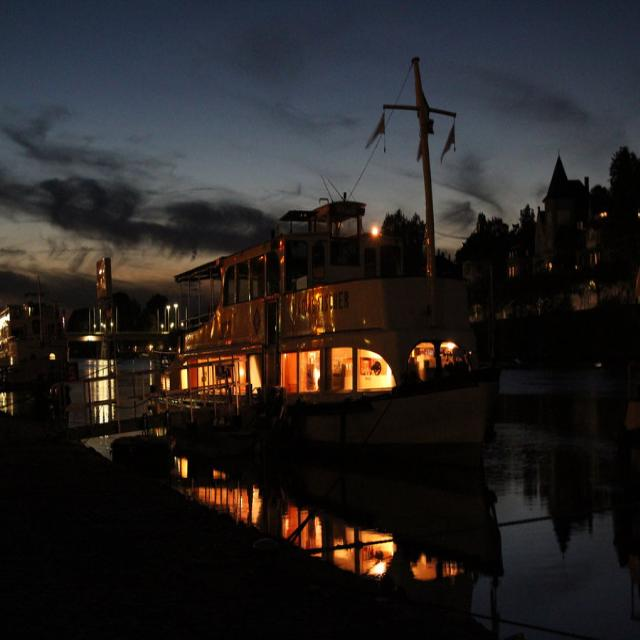Boat: (103, 166, 530, 591)
